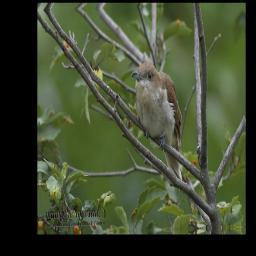Cuckoo: (131, 60, 184, 183)
